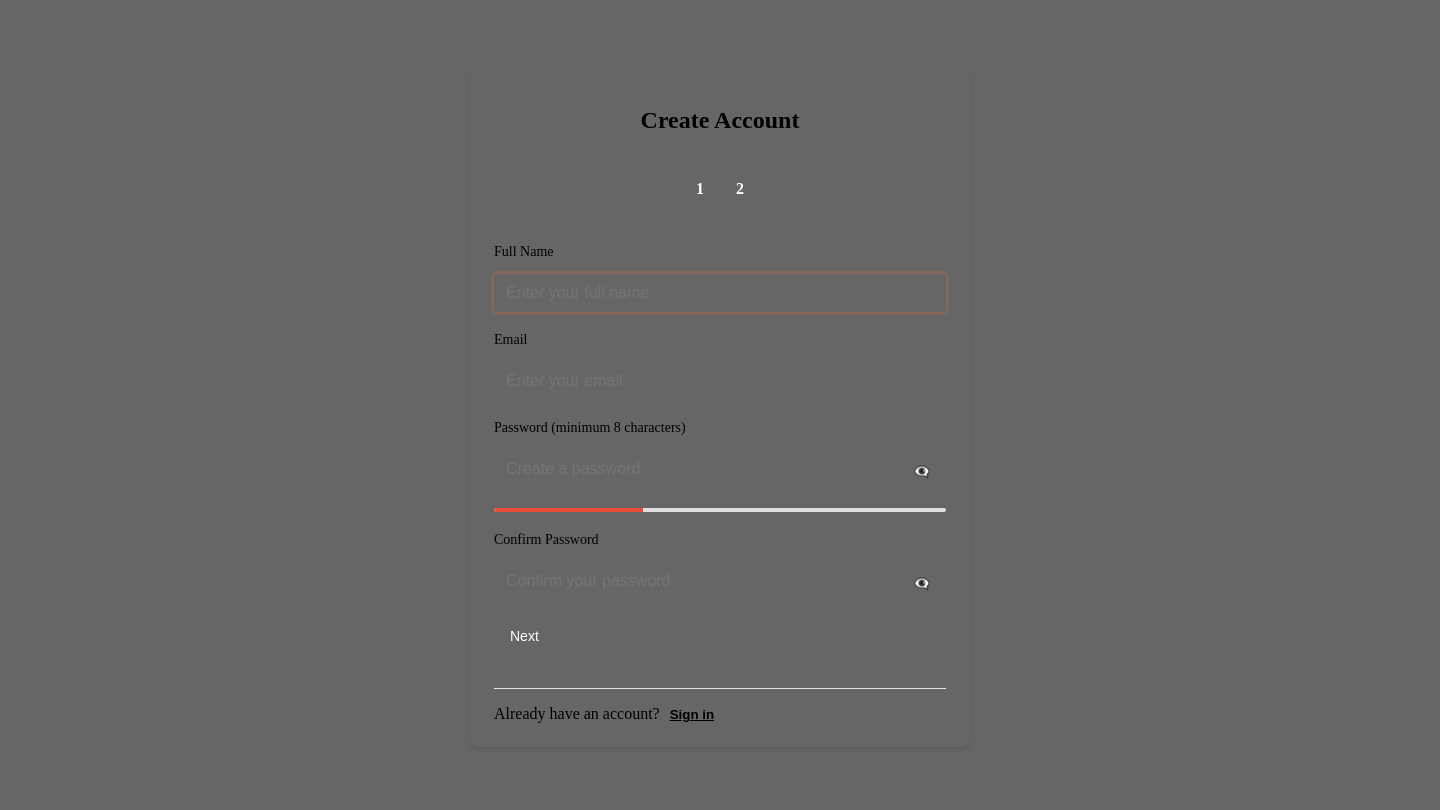
Test case: SignupModal › validates required fields in step 1
The width and height of the screenshot is (1440, 810).
// Submit without filling any fields
What coordinates should you click on to do the following:
click the button "Next"
I would click on:
 (524, 636)
Its box is [494,620,555,652].
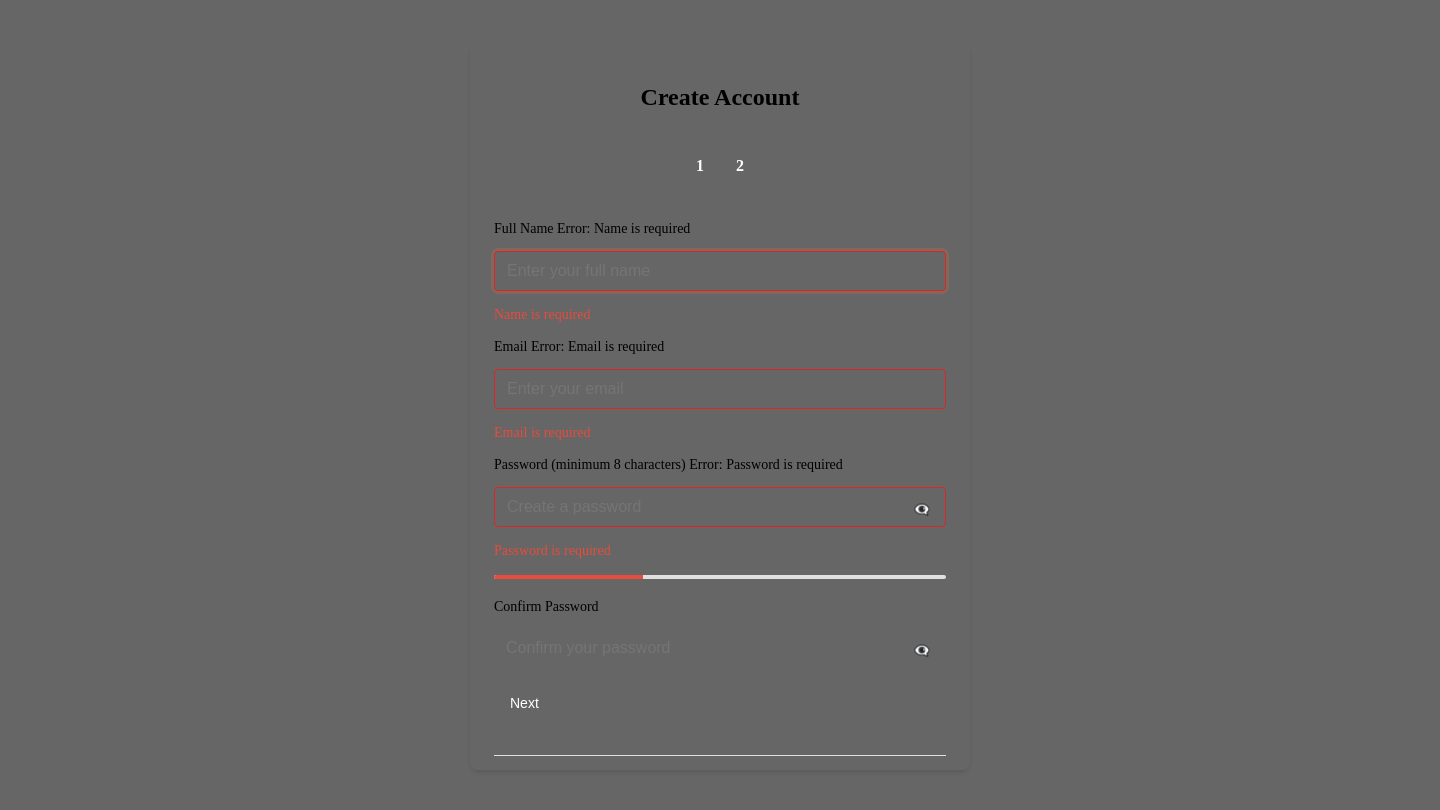
Now the text "Name is required" is shown, box [494,307,590,322]
Now the text "Email is required" is shown, box [494,425,590,440]
Now the text "Password is required" is shown, box [494,543,611,558]
